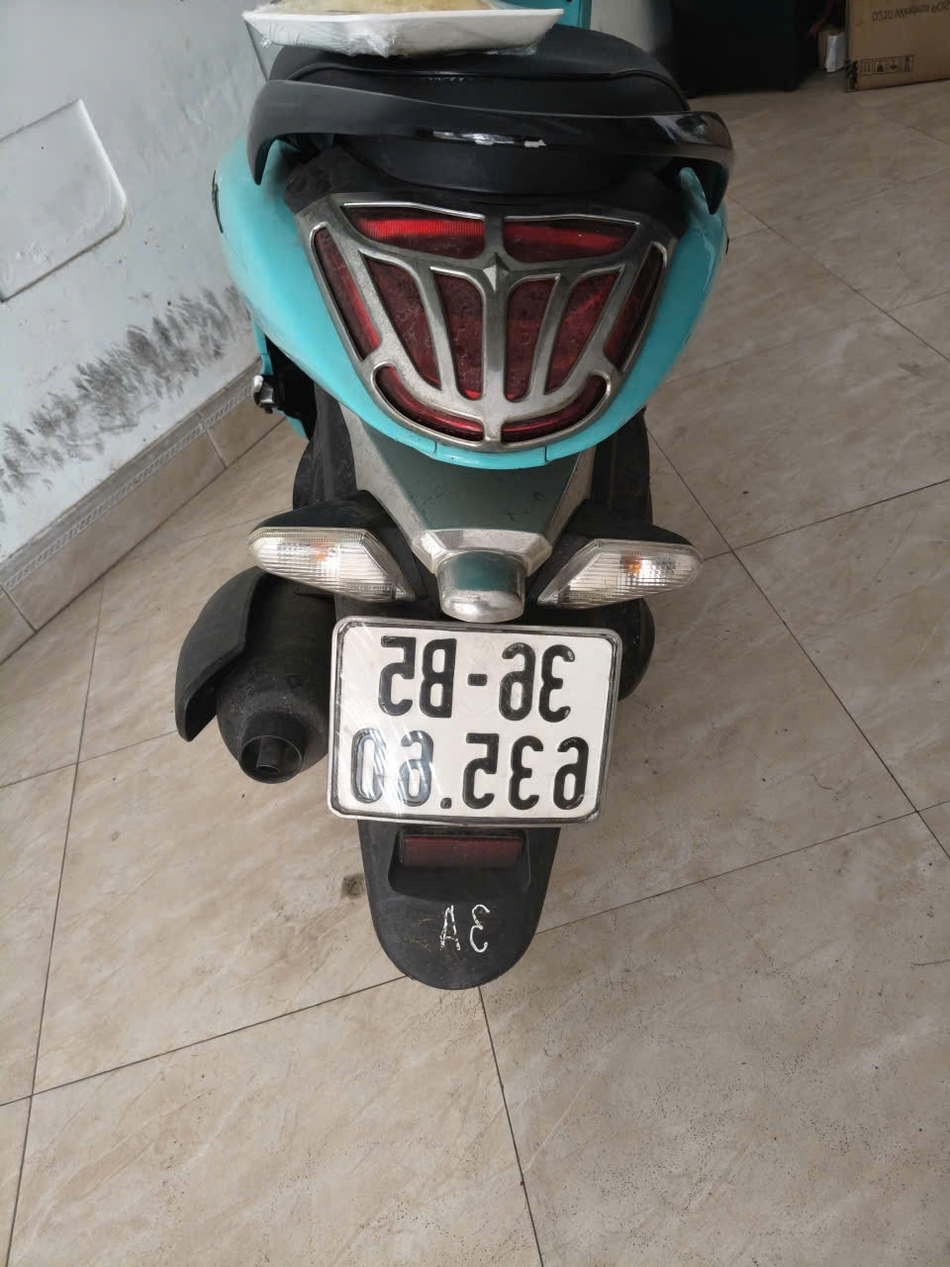plate: (245, 18, 407, 54)
